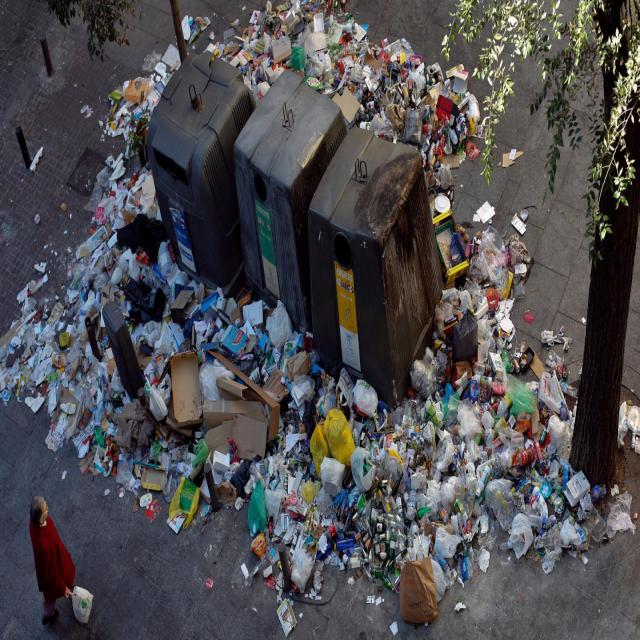garbage: (139, 260, 356, 640), (338, 367, 488, 639), (44, 210, 160, 528), (444, 232, 514, 554), (511, 350, 583, 584), (256, 0, 394, 95), (392, 49, 491, 162), (100, 80, 147, 251)
